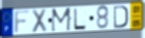8: (96, 5, 110, 31)
D: (113, 5, 130, 30)
F: (13, 9, 32, 35)
L: (73, 7, 87, 31)
M: (51, 6, 73, 33)
X: (31, 8, 48, 34)
